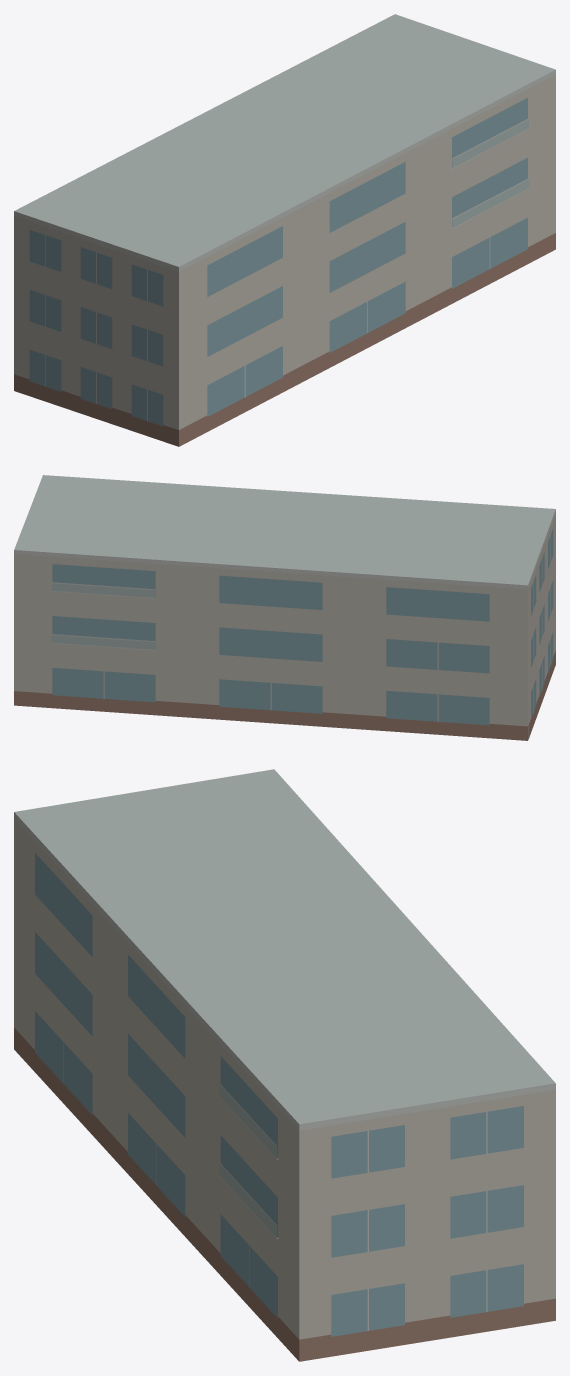
File: survey-upis-32835915.glb
3 renders of one model, top to bottom at view 1: azimuth 30°, elevation 25°; view 2: azimuth 150°, elevation 25°; view 3: azimuth 270°, elevation 25°, orthographic. The views are drawn at different scales.
Visible parts, largest first — view 1: survey-upis-32835915.tmp; view 2: survey-upis-32835915.tmp; view 3: survey-upis-32835915.tmp.
Part boxes in pixels (left/top/right/bottom): survey-upis-32835915.tmp: left=14, top=14, right=555, bottom=446; survey-upis-32835915.tmp: left=14, top=475, right=555, bottom=740; survey-upis-32835915.tmp: left=14, top=769, right=555, bottom=1361.
Bounding box in the file's own units: 29.36 × 9.15 × 18.93.
